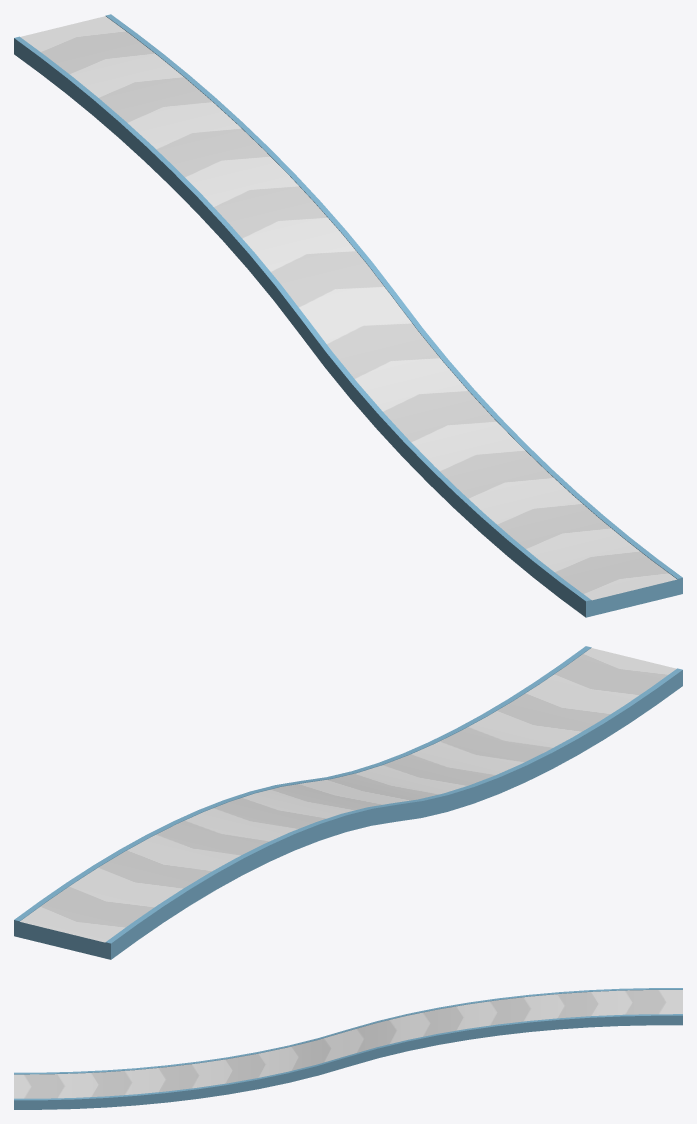
Rendered from platform_UP-1.fbx.
3 views of the same model, one above another, from view 1: azimuth 30°, elevation 25°; view 2: azimuth 150°, elevation 25°; view 3: azimuth 270°, elevation 25° (orthographic). The views are drawn at different scales.
Parts seen in each view (by area): view 1: platform-up-1; view 2: platform-up-1; view 3: platform-up-1.
Boxes of the visible parts, bbox=[...] form: platform-up-1: bbox=[14, 14, 682, 617]; platform-up-1: bbox=[14, 646, 682, 959]; platform-up-1: bbox=[14, 988, 682, 1109].
Size of the model in its own units: 6.41 by 10.16 by 65.36.
